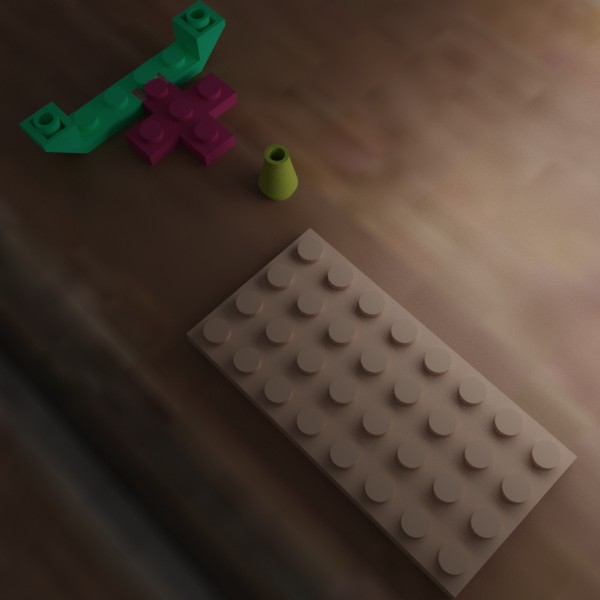lego: (186, 227, 577, 600), (19, 0, 225, 153), (125, 71, 237, 166), (258, 144, 297, 200)
